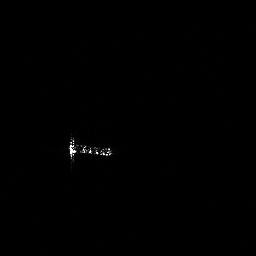ship: (66, 134, 113, 164)
